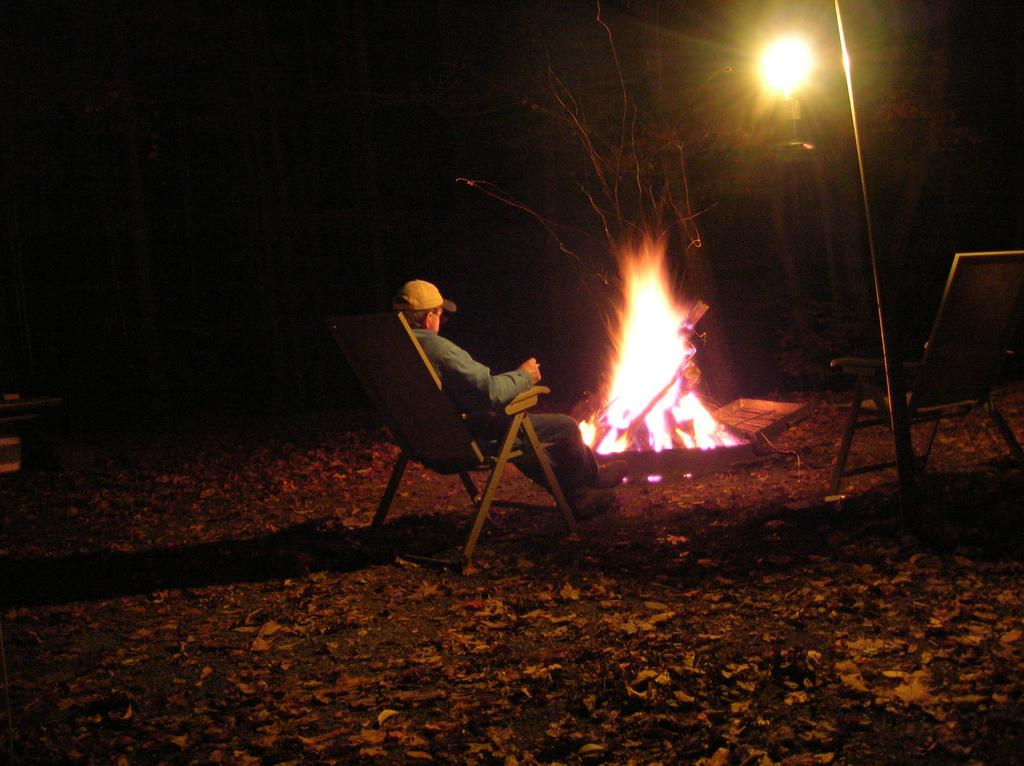fire: (626, 308, 692, 454)
